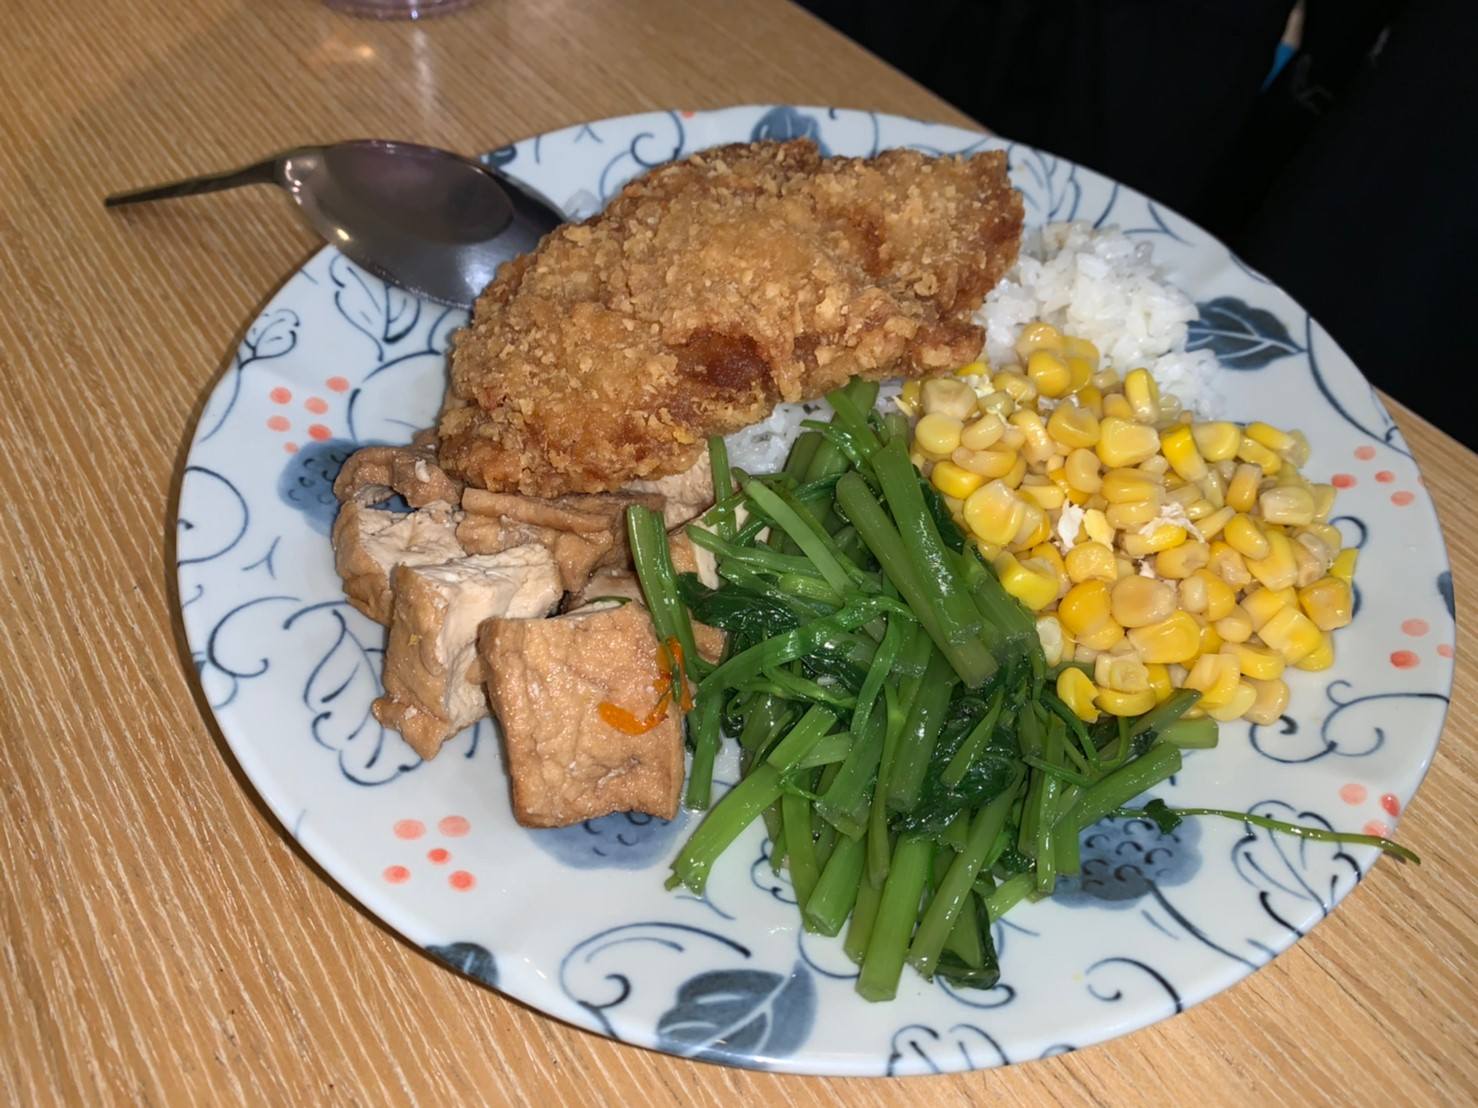fried_chicken: (445, 144, 1025, 474)
rice: (986, 232, 1198, 365)
water_spinach: (705, 421, 1085, 933)
